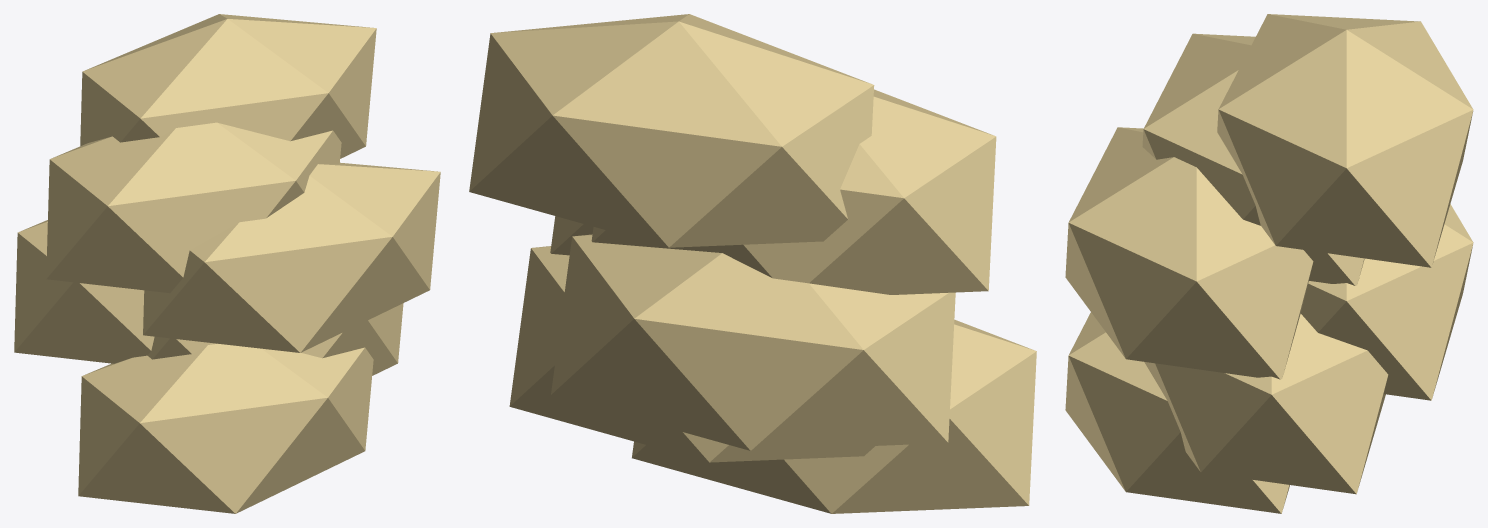
The model's file is item_060_barley_seed_l.glb.
3 renders of one model, left to right at view 1: azimuth 30°, elevation 25°; view 2: azimuth 150°, elevation 25°; view 3: azimuth 270°, elevation 25°, orthographic. The views are drawn at different scales.
Parts seen in each view (by area): view 1: item_060_barley_seed_l; view 2: item_060_barley_seed_l; view 3: item_060_barley_seed_l.
Part boxes in pixels (x1=…): item_060_barley_seed_l: x1=14, y1=14, x2=440, y2=513; item_060_barley_seed_l: x1=469, y1=14, x2=1036, y2=513; item_060_barley_seed_l: x1=1065, y1=14, x2=1473, y2=513.
Size of the model in its own units: 0.3921 by 0.4342 by 0.3266.
